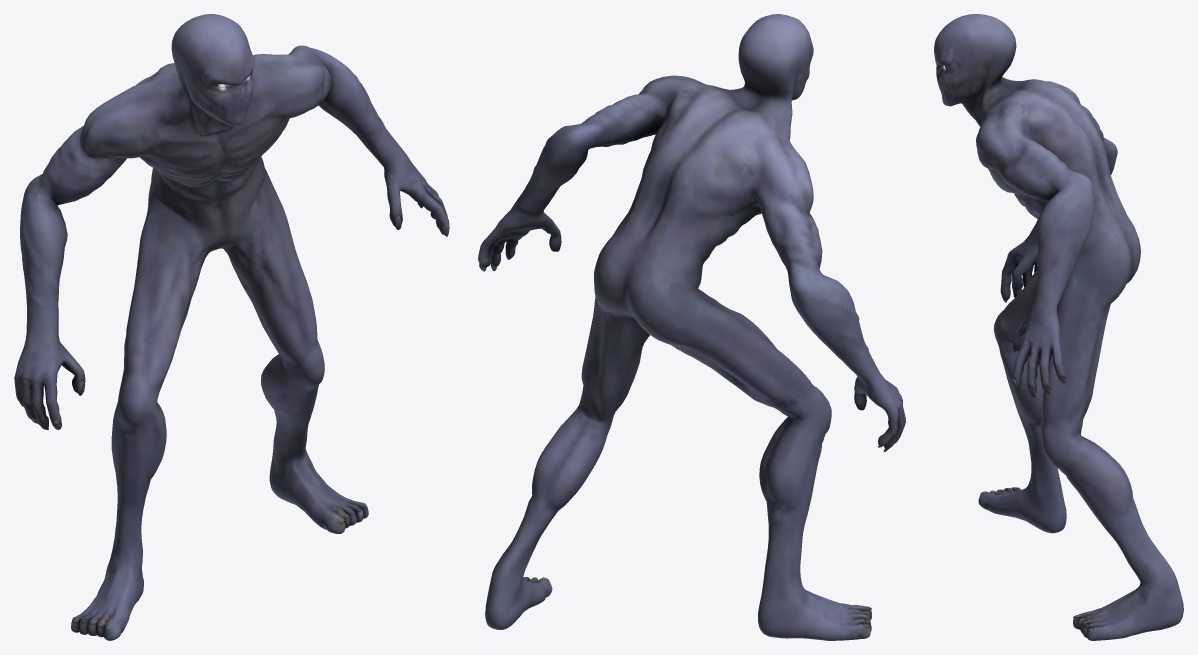
File: MZ4250 - Doppelganger_1_2025.glb
3 views of the same model, side by side, from view 1: azimuth 30°, elevation 25°; view 2: azimuth 150°, elevation 25°; view 3: azimuth 270°, elevation 25° (orthographic). The views are drawn at different scales.
Parts seen in each view (by area): view 1: Body.002; view 2: Body.002; view 3: Body.002.
Boxes of the visible parts, x1=… form: Body.002: x1=14, y1=14, x2=449, y2=640; Body.002: x1=478, y1=14, x2=905, y2=640; Body.002: x1=934, y1=14, x2=1183, y2=640.
Size of the model in its own units: 58.62 by 78.56 by 33.36.
1 material, 1 textured.
